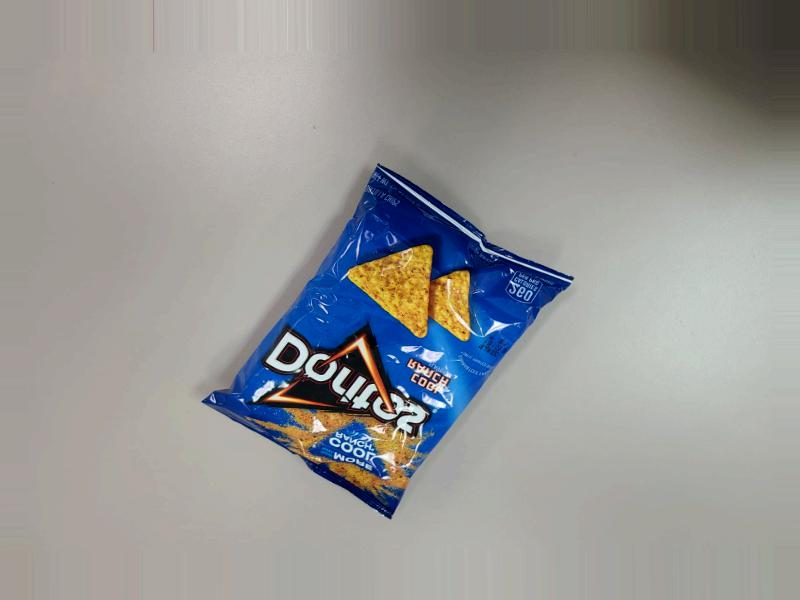doritos: (228, 141, 547, 527)
